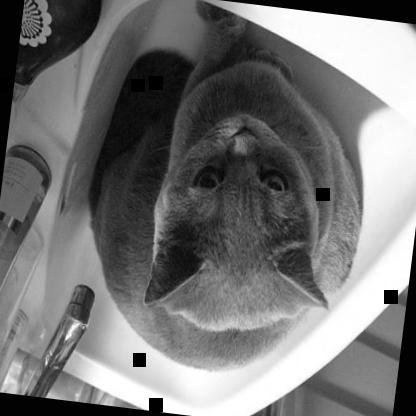cat: (71, 0, 385, 386)
